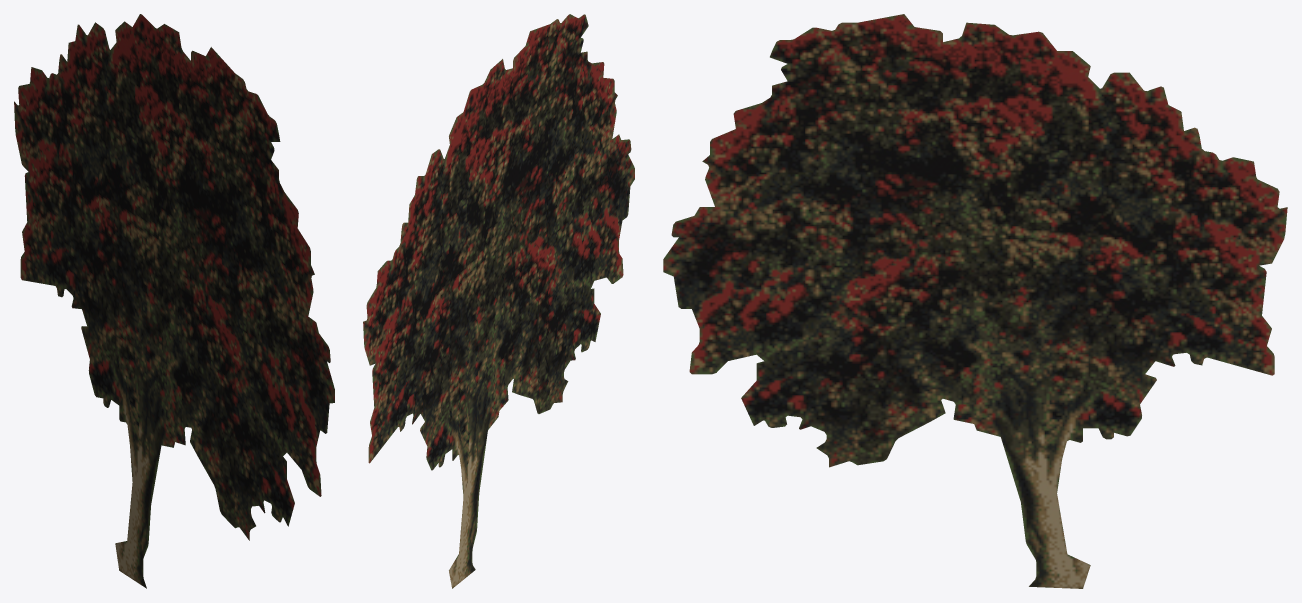
File: Pohutukawa.fbx
3 views of the same model, side by side, from view 1: azimuth 30°, elevation 25°; view 2: azimuth 150°, elevation 25°; view 3: azimuth 270°, elevation 25° (orthographic). The views are drawn at different scales.
Parts seen in each view (by area): view 1: PohutukawaPlane; view 2: PohutukawaPlane; view 3: PohutukawaPlane.
Part boxes in pixels (box(x1,y1,x2,y2)): PohutukawaPlane: box(14, 14, 334, 588); PohutukawaPlane: box(363, 14, 634, 588); PohutukawaPlane: box(663, 14, 1287, 588).
Bounding box in the file's own units: 1.24e-14 × 25.75 × 25.34.
